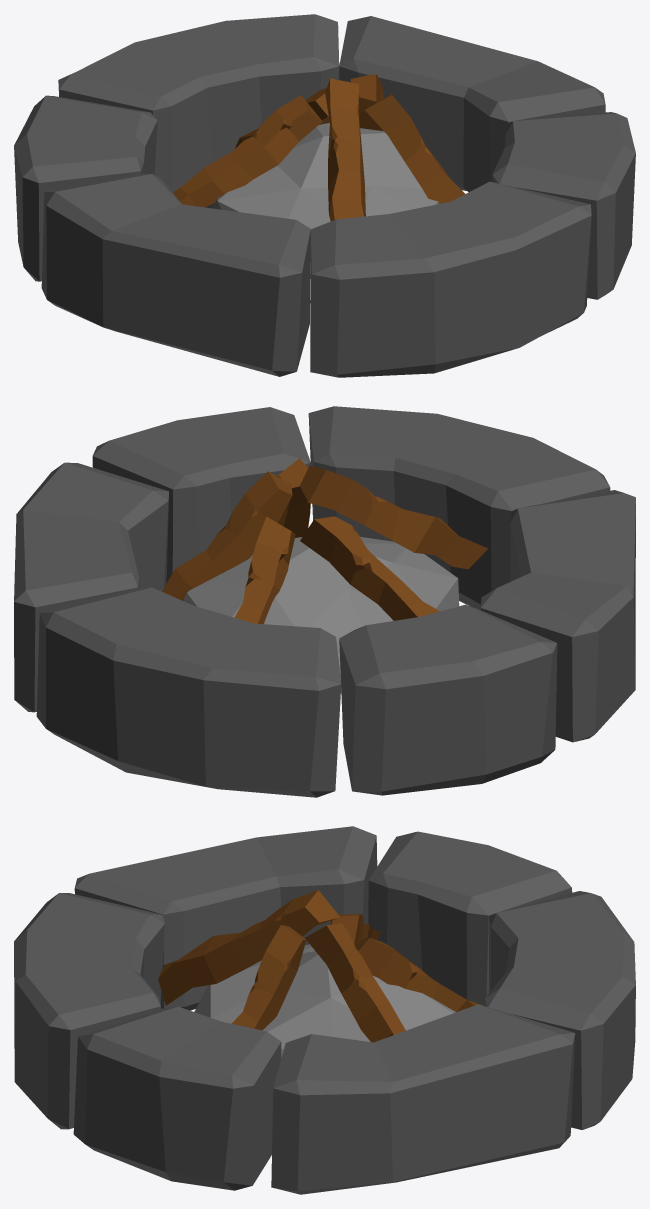
File: Ognisko.fbx
3 renders of one model, top to bottom at view 1: azimuth 30°, elevation 25°; view 2: azimuth 150°, elevation 25°; view 3: azimuth 270°, elevation 25°, orthographic. The views are drawn at different scales.
Parts seen in each view (by area): view 1: Cube.008, Icosphere, Cube.010, Cube.009, Cube.013, Cube.011, Cube.012; view 2: Cube.008, Icosphere, Cube.009, Cube.011, Cube.010, Cube.012, Cube.013; view 3: Cube.008, Icosphere, Cube.009, Cube.011, Cube.013, Cube.012, Cube.010.
Part boxes in pixels (left/top/right/bottom): Cube.008: left=14, top=14, right=635, bottom=377; Icosphere: left=205, top=123, right=438, bottom=278; Cube.010: left=172, top=95, right=322, bottom=207; Cube.009: left=325, top=78, right=365, bottom=221; Cube.013: left=365, top=94, right=464, bottom=203; Cube.011: left=350, top=74, right=383, bottom=130; Cube.012: left=235, top=88, right=329, bottom=148; Cube.008: left=14, top=406, right=635, bottom=797; Icosphere: left=184, top=537, right=459, bottom=692; Cube.009: left=300, top=465, right=488, bottom=569; Cube.011: left=162, top=471, right=292, bottom=600; Cube.010: left=300, top=516, right=439, bottom=620; Cube.012: left=234, top=516, right=295, bottom=624; Cube.013: left=277, top=458, right=310, bottom=537; Cube.008: left=14, top=826, right=635, bottom=1194; Icosphere: left=194, top=944, right=455, bottom=1057; Cube.009: left=158, top=890, right=340, bottom=1005; Cube.011: left=305, top=923, right=405, bottom=1042; Cube.013: left=231, top=925, right=306, bottom=1030; Cube.012: left=355, top=937, right=484, bottom=1012; Cube.010: left=330, top=914, right=380, bottom=944.
Bounding box in the file's own units: 40.99 × 13.26 × 40.8.
